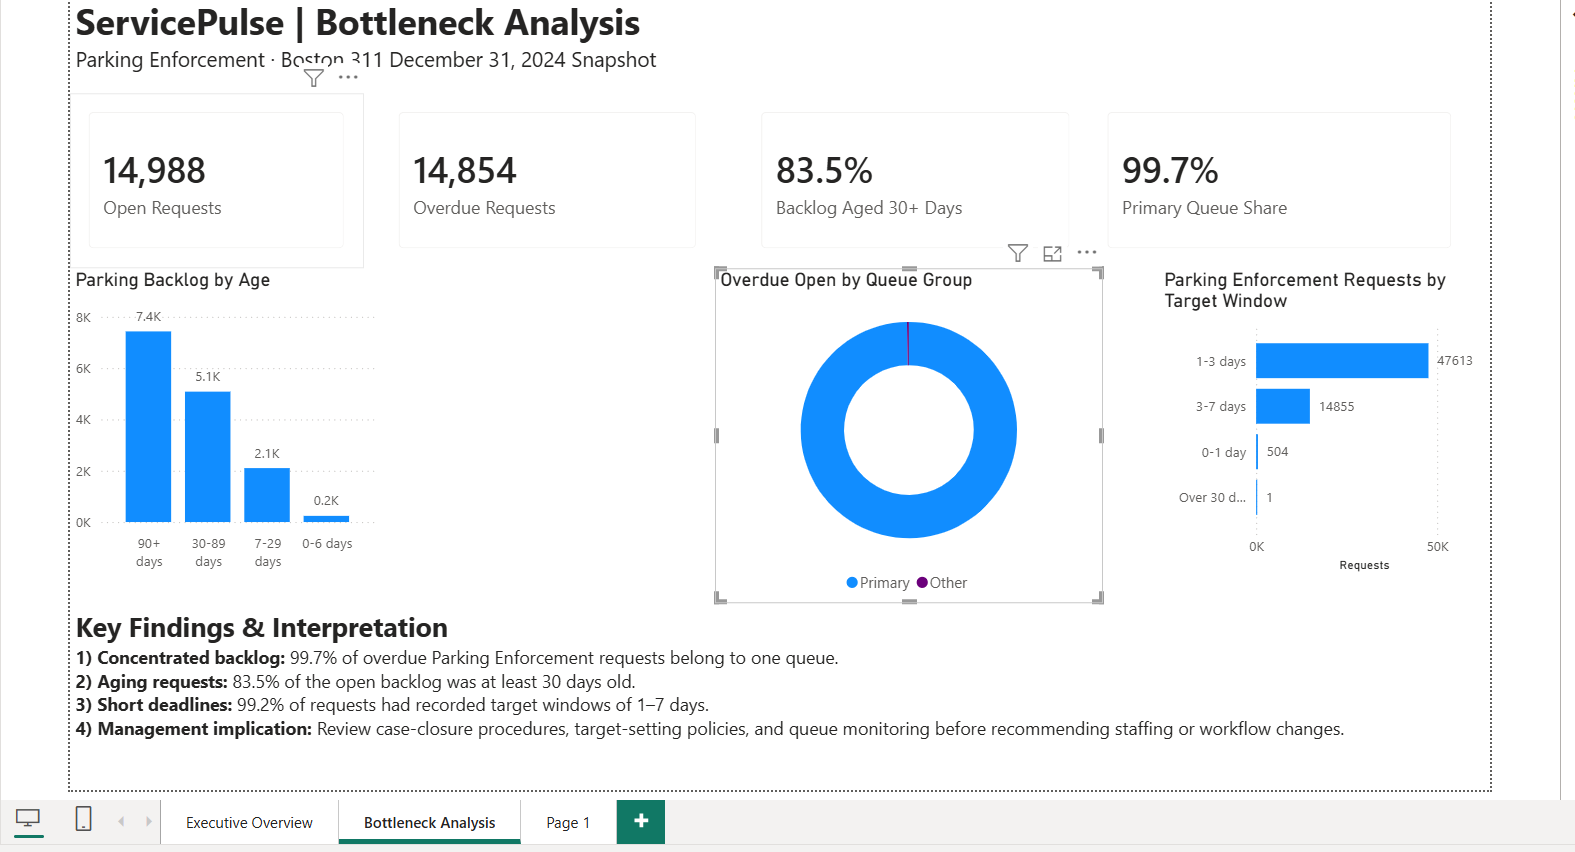

This screenshot's page, from the dashboard's own definition file:
{"tool":"powerbi","page":{"name":"Bottleneck Analysis","canvas":[1280,720],"ordinal":1},"visuals":[{"type":"clusteredColumnChart","title":"Parking Backlog by Age","fields":{"Category":["service_backlog_age.age_at_snapshot"],"Y":["Sum(service_backlog_age.overdue_open)"]},"box":[0,249.5,280,280],"z":0},{"type":"textbox","box":[0,0,1280.3,91.7],"z":1000},{"type":"cardVisual","fields":{"Data":["service_backlog_age.Parking Open Display"]},"box":[0,91.3,264.9,157.8],"z":2000},{"type":"cardVisual","fields":{"Data":["service_backlog_age.Parking Overdue Display"]},"box":[279.5,91.3,302.1,157.8],"z":3000},{"type":"cardVisual","fields":{"Data":["service_backlog_age.Parking Aged 30 Plus Display"]},"box":[606.4,91.3,312.2,157.8],"z":4000},{"type":"cardVisual","fields":{"Data":["service_backlog_age.Primary Queue Share Display"]},"box":[918.6,91.3,344.9,157.8],"z":5000},{"type":"donutChart","title":"Overdue Open by Queue Group","fields":{"Y":["Sum(service_queue_diagnostic.overdue_open)"],"Category":["service_queue_diagnostic.Queue Group"]},"box":[581.4,248.8,350,302.3],"z":6000},{"type":"clusteredBarChart","title":"Parking Enforcement Requests by Target Window","fields":{"Category":["service_target_windows.target_window"],"Y":["Sum(service_target_windows.requests)"]},"box":[981.4,248.8,298.8,279.1],"z":7000},{"type":"textbox","box":[0,551.2,1280.4,169.1],"z":8000}]}

Visuals, with their boxes on the page's 1280x720 design canvas (x1, y1, x2, y2). These are canvas units, not pixel positions in the 1575x852 screenshot, which may show the page scaled, cropped or inside an application window:
"Parking Backlog by Age" clusteredColumnChart: (x1=0, y1=250, x2=280, y2=530)
textbox: (x1=0, y1=0, x2=1280, y2=92)
cardVisual - service_backlog_age.Parking Open Display: (x1=0, y1=91, x2=265, y2=249)
cardVisual - service_backlog_age.Parking Overdue Display: (x1=280, y1=91, x2=582, y2=249)
cardVisual - service_backlog_age.Parking Aged 30 Plus Display: (x1=606, y1=91, x2=919, y2=249)
cardVisual - service_backlog_age.Primary Queue Share Display: (x1=919, y1=91, x2=1264, y2=249)
"Overdue Open by Queue Group" donutChart: (x1=581, y1=249, x2=931, y2=551)
"Parking Enforcement Requests by Target Window" clusteredBarChart: (x1=981, y1=249, x2=1280, y2=528)
textbox: (x1=0, y1=551, x2=1280, y2=720)
